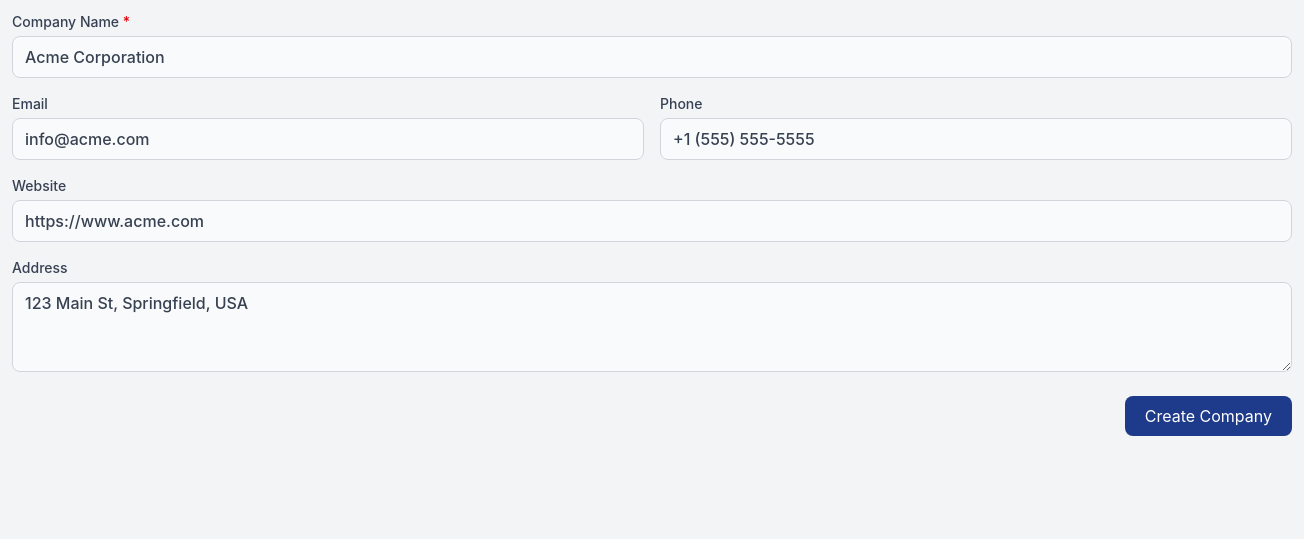
Test: CompanyForm › shows duplicate warning when company exists
Type "Existing Co" into the field labelled "Company Name *".
click(652, 57); type("Existing Co")  # box x1=12 y1=36 x2=1292 y2=78
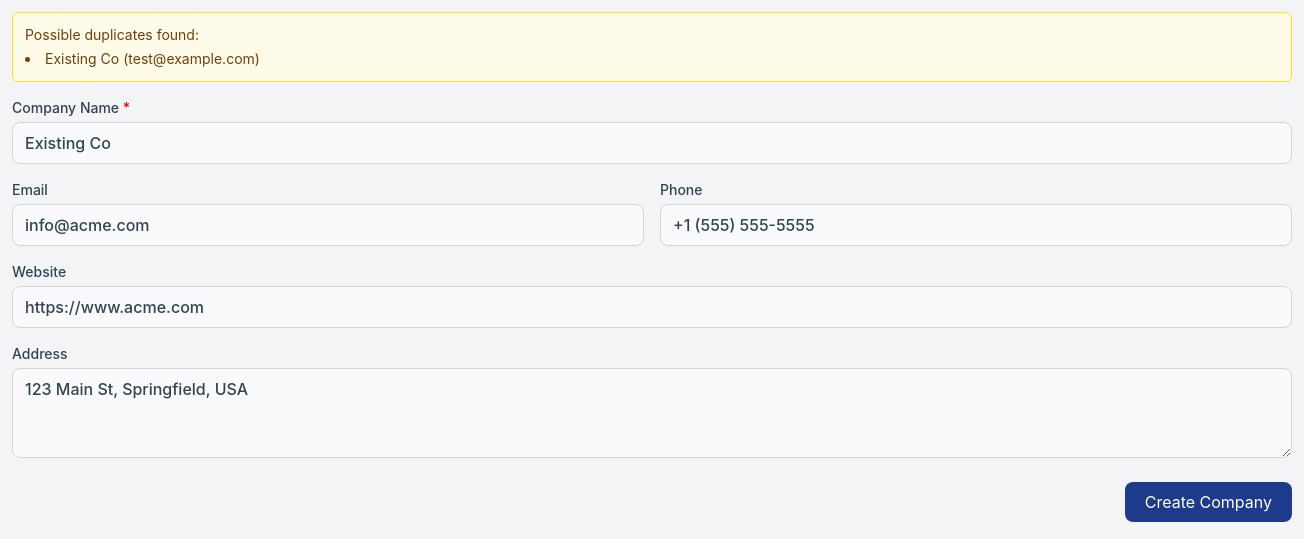
Check: the text "Possible duplicates found: Existing Co (test@example.com)" is shown, box x1=12 y1=12 x2=1292 y2=82
Check: the list item "Existing Co (test@example.com)" is shown, box x1=45 y1=50 x2=260 y2=67
